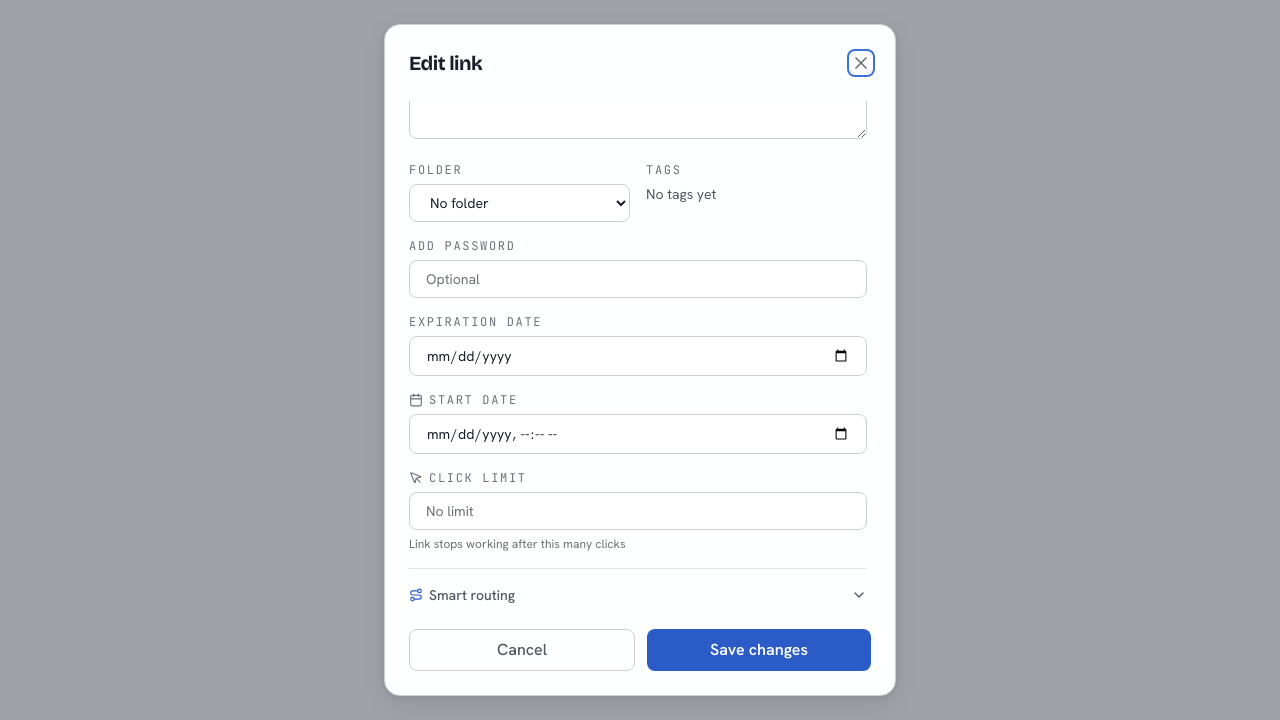
Scenario: EditModal › keeps the modal open when routing fails after a successful link save
(page scrolled)
Click the button "Smart routing". click: [472, 595]
box: [409,585,867,605]
(page scrolled)
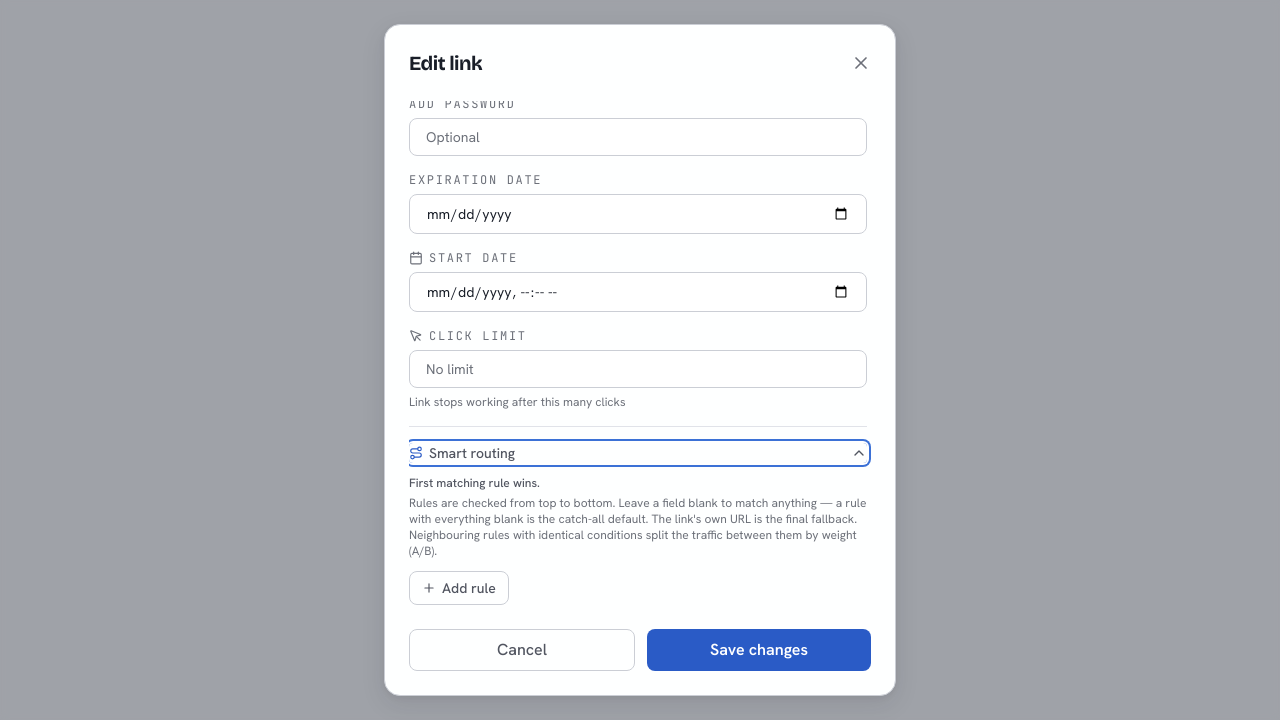
Click the button "Add rule". click: [459, 588]
box: [409,571,509,605]
(page scrolled)
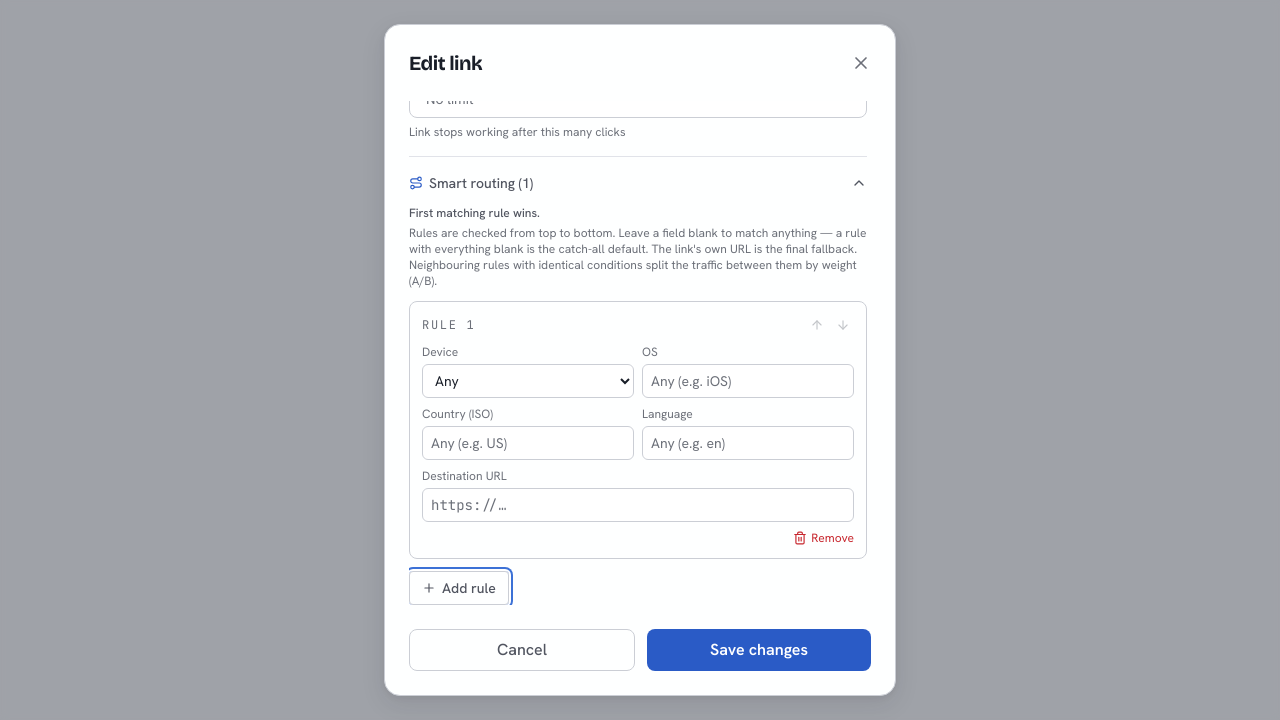
Type "https://routed.example/" into the field with placeholder "https://…". click: [638, 505]
box: [422,488,854,522]
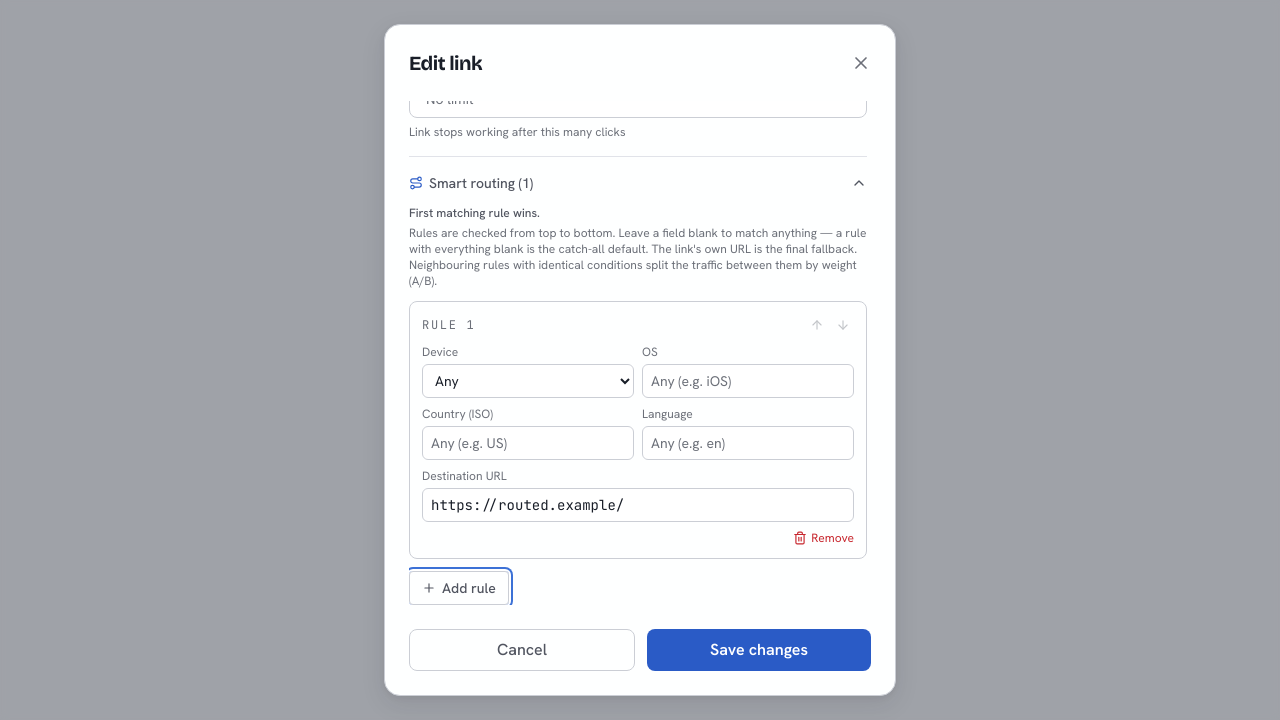
Click the button "Save changes". click: [759, 650]
box: [647,629,871,671]
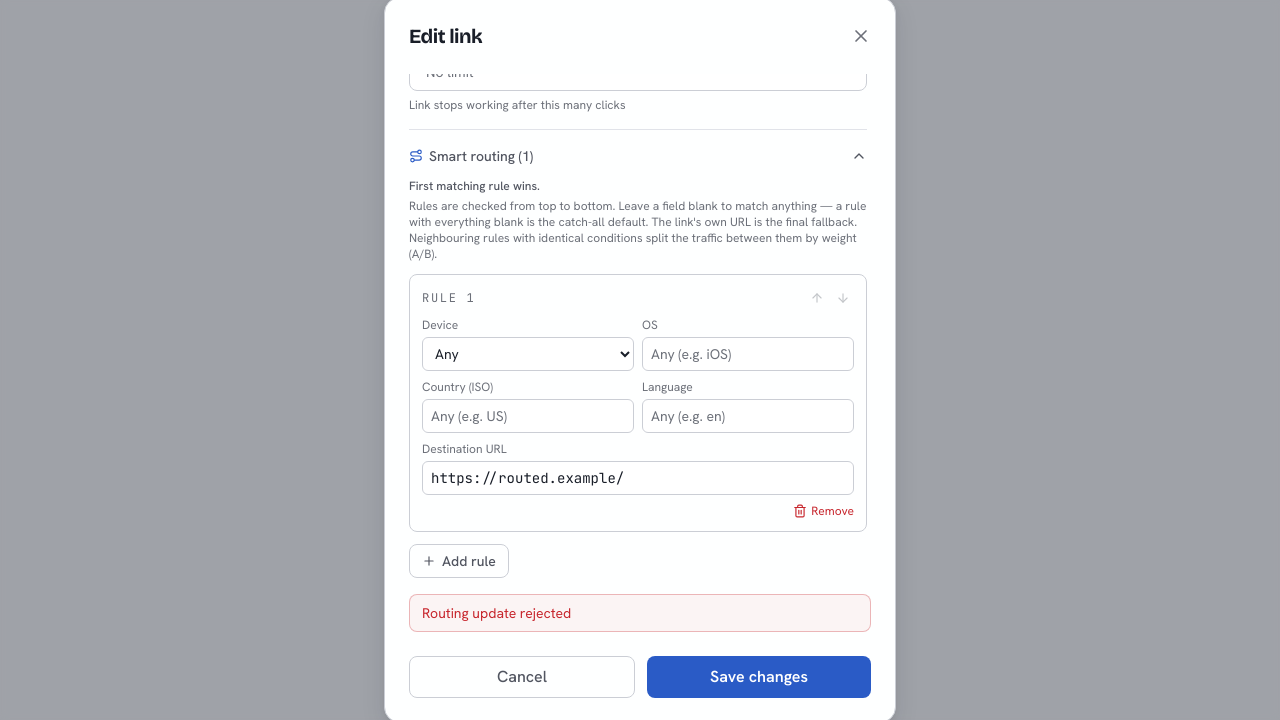
Expected: the message reads "Routing update rejected", [422,604,571,622]
